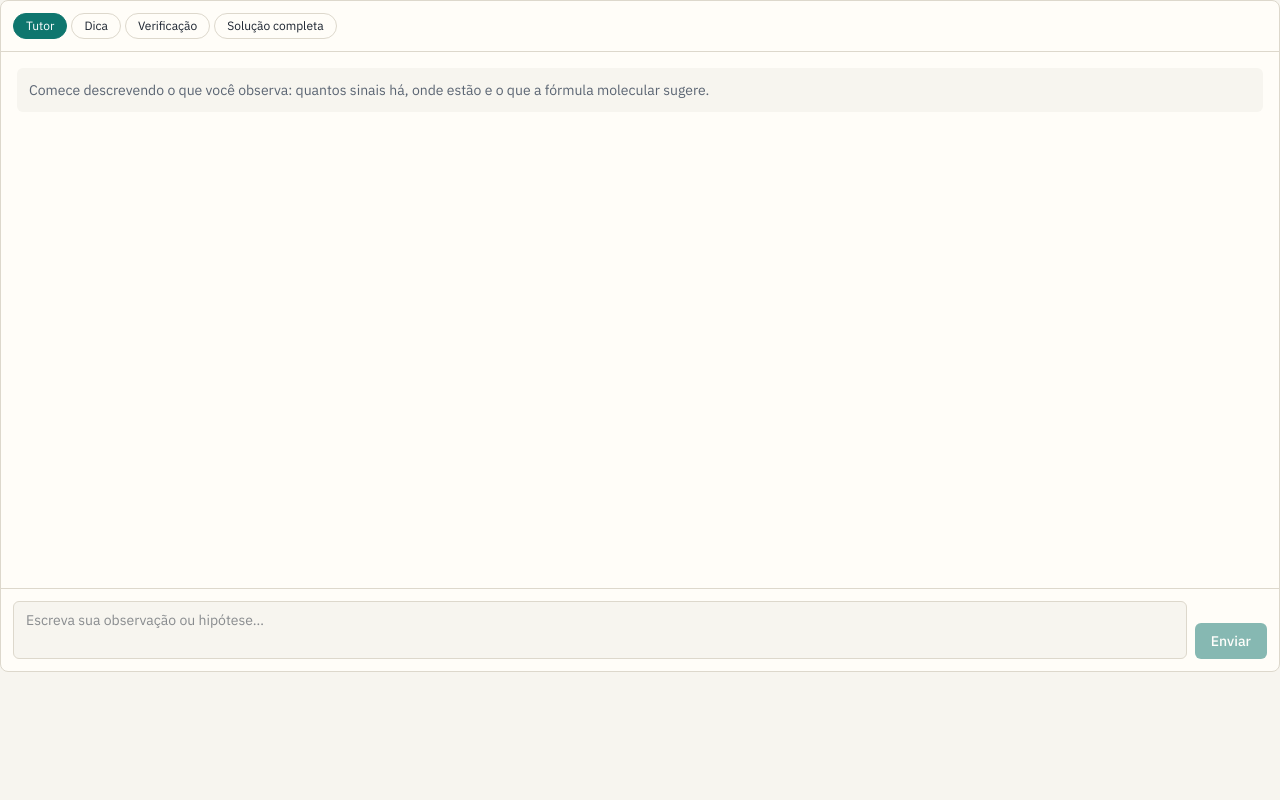
ChatPanel › shows API errors and keeps the input enabled
This screenshot has width=1280, height=800.
Type "Oi" into the text box with test id "chat-input".
click(600, 630); type("Oi")  # box 13,601 -> 1187,659
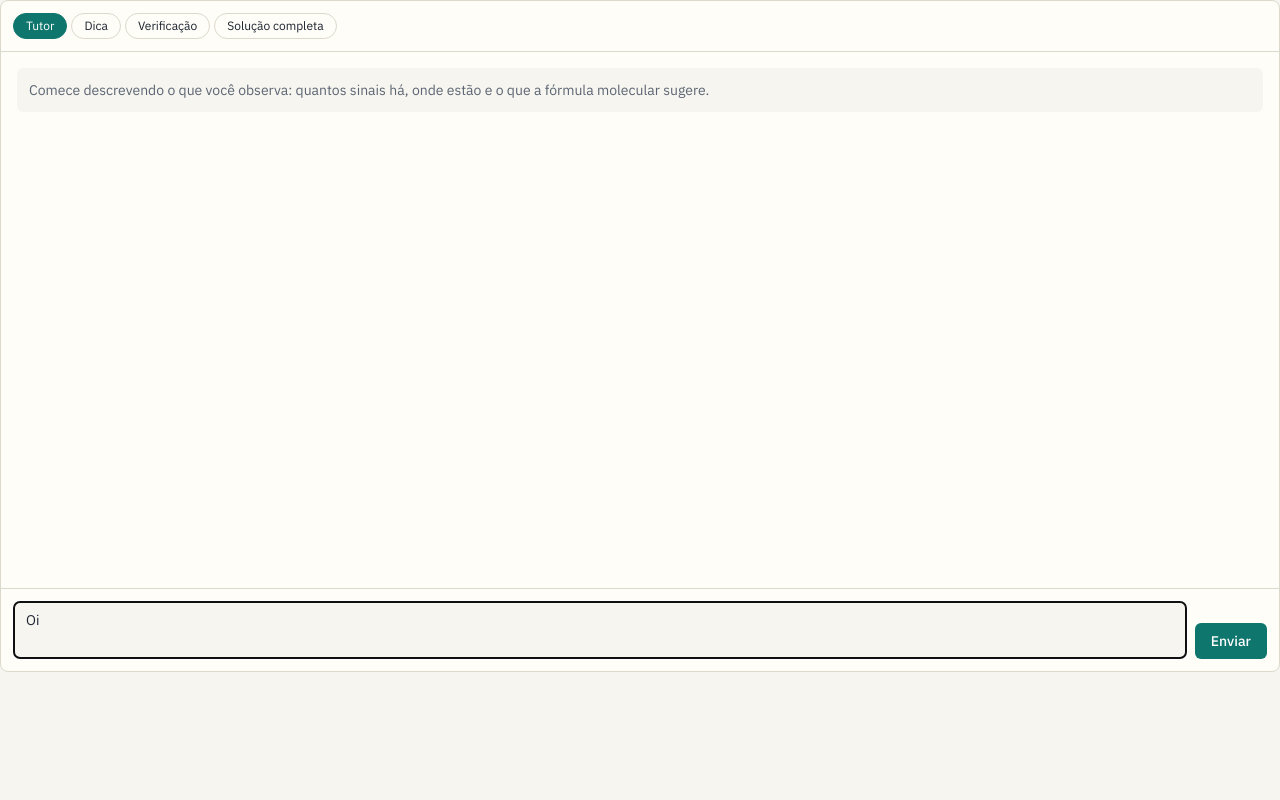
Click the button "Enviar".
click(1231, 641)  # box 1195,623 -> 1267,659
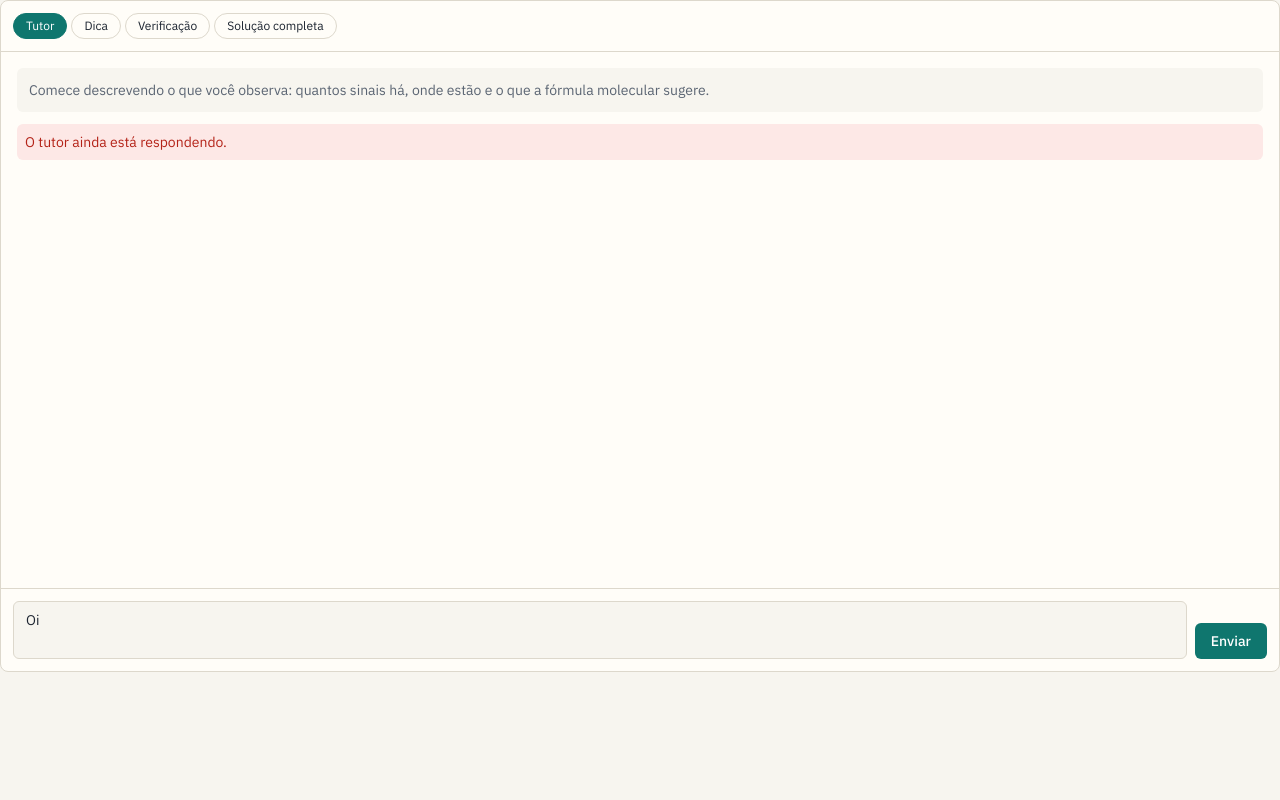
Check: the text box with test id "chat-input" is enabled, box 13,601 -> 1187,659
Check: the text "O tutor ainda está respondendo." is shown, box 17,124 -> 1263,160
